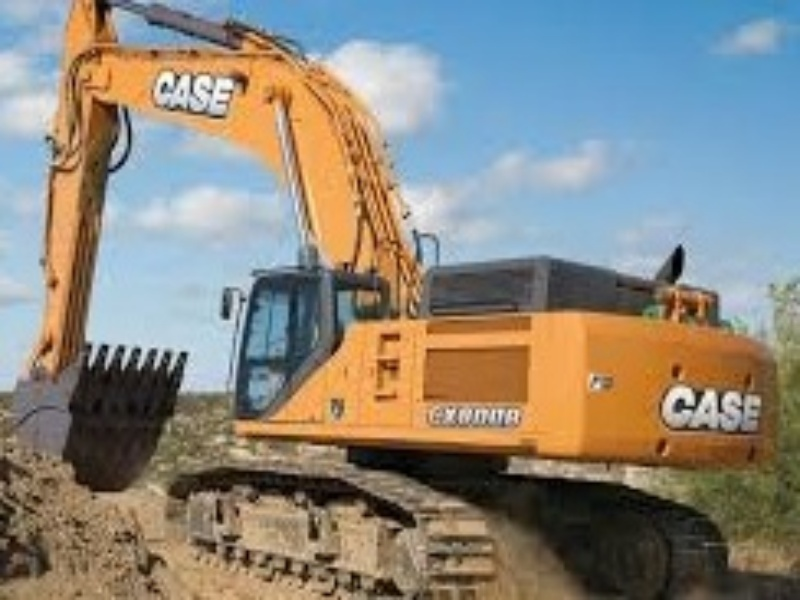wajueji: (154, 207, 789, 600)
